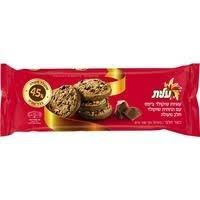Chocolate: (3, 65, 200, 142)
